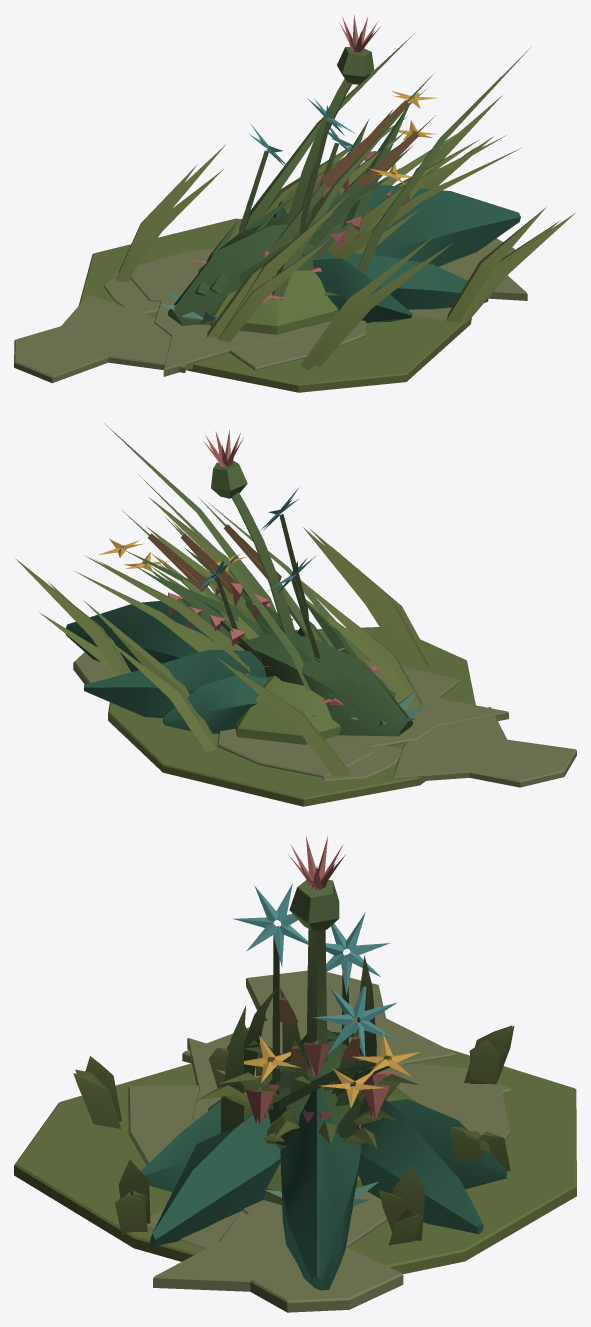
The model's file is Windrift_Plants.fbx.
The picture shows the model from 3 angles, top to bottom: view 1: azimuth 30°, elevation 25°; view 2: azimuth 150°, elevation 25°; view 3: azimuth 270°, elevation 25°; orthographic projection. The views are drawn at different scales.
Visible parts, largest first — view 1: Windrift_Plants_GaleGrassA__Grass, Windrift_Plants_LichenB__Lichen, Windrift_Plants_JuniperCreeper__Juniper, Windrift_Plants_Gorse__Gorse, Windrift_Plants_LichenA__Lichen, Windrift_Plants_Sedge__Reed, Windrift_Plants_Cushion__Moss, Windrift_Plants_GaleGrassB__Grass, Windrift_Plants_Thistle__Reed, Windrift_Plants_Sedge__Seed, Windrift_Plants_WindStar__Reed, Windrift_Plants_WindStar__FlowerTeal (+3 smaller); view 2: Windrift_Plants_GaleGrassA__Grass, Windrift_Plants_JuniperCreeper__Juniper, Windrift_Plants_LichenB__Lichen, Windrift_Plants_Gorse__Gorse, Windrift_Plants_LichenA__Lichen, Windrift_Plants_Sedge__Reed, Windrift_Plants_GaleGrassB__Grass, Windrift_Plants_Cushion__Moss, Windrift_Plants_Thistle__Reed, Windrift_Plants_Sedge__Seed, Windrift_Plants_WindStar__Reed, Windrift_Plants_Heather__FlowerRose (+3 smaller); view 3: Windrift_Plants_GaleGrassA__Grass, Windrift_Plants_JuniperCreeper__Juniper, Windrift_Plants_LichenB__Lichen, Windrift_Plants_LichenA__Lichen, Windrift_Plants_WindStar__FlowerTeal, Windrift_Plants_Gorse__Gorse, Windrift_Plants_Sedge__Reed, Windrift_Plants_Thistle__Reed, Windrift_Plants_GaleGrassB__Grass, Windrift_Plants_Heather__FlowerRose, Windrift_Plants_Gorse__FlowerOchre, Windrift_Plants_WindStar__Reed (+3 smaller).
Part boxes in pixels (x1,y1,x2,y2): Windrift_Plants_GaleGrassA__Grass: (78, 95, 575, 392); Windrift_Plants_LichenB__Lichen: (14, 238, 527, 383); Windrift_Plants_JuniperCreeper__Juniper: (272, 185, 520, 322); Windrift_Plants_Gorse__Gorse: (168, 101, 413, 325); Windrift_Plants_LichenA__Lichen: (103, 248, 451, 370); Windrift_Plants_Sedge__Reed: (245, 33, 530, 300); Windrift_Plants_Cushion__Moss: (198, 265, 338, 334); Windrift_Plants_GaleGrassB__Grass: (311, 88, 520, 260); Windrift_Plants_Thistle__Reed: (286, 47, 374, 295); Windrift_Plants_Sedge__Seed: (320, 100, 418, 187); Windrift_Plants_WindStar__Reed: (238, 121, 338, 255); Windrift_Plants_WindStar__FlowerTeal: (248, 98, 356, 168); Windrift_Plants_GaleGrassA__Grass: (15, 521, 475, 806); Windrift_Plants_JuniperCreeper__Juniper: (66, 597, 304, 733); Windrift_Plants_LichenB__Lichen: (73, 652, 576, 787); Windrift_Plants_Gorse__Gorse: (126, 547, 412, 736); Windrift_Plants_LichenA__Lichen: (217, 660, 460, 780); Windrift_Plants_Sedge__Reed: (104, 423, 361, 691); Windrift_Plants_GaleGrassB__Grass: (74, 497, 277, 673); Windrift_Plants_Cushion__Moss: (235, 675, 398, 744); Windrift_Plants_Thistle__Reed: (211, 460, 295, 637); Windrift_Plants_Sedge__Seed: (148, 524, 281, 594); Windrift_Plants_WindStar__Reed: (215, 514, 320, 683); Windrift_Plants_Heather__FlowerRose: (168, 579, 292, 646); Windrift_Plants_GaleGrassA__Grass: (14, 1025, 576, 1274); Windrift_Plants_JuniperCreeper__Juniper: (140, 1089, 506, 1290); Windrift_Plants_LichenB__Lichen: (153, 970, 456, 1312); Windrift_Plants_LichenA__Lichen: (128, 1064, 511, 1249); Windrift_Plants_WindStar__FlowerTeal: (232, 883, 396, 1056); Windrift_Plants_Gorse__Gorse: (244, 1029, 390, 1149); Windrift_Plants_Sedge__Reed: (221, 955, 376, 1133); Windrift_Plants_Thistle__Reed: (289, 879, 339, 1067); Windrift_Plants_GaleGrassB__Grass: (196, 1068, 419, 1148); Windrift_Plants_Heather__FlowerRose: (245, 1042, 390, 1124); Windrift_Plants_Gorse__FlowerOchre: (244, 1033, 420, 1108); Windrift_Plants_WindStar__Reed: (272, 926, 358, 1129).
Size of the model in its own units: 8.53 by 4.58 by 5.7.
